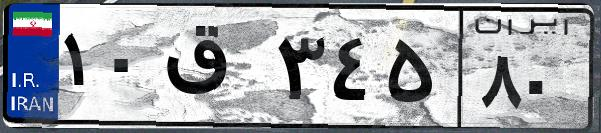0: (525, 38, 570, 115), (110, 28, 158, 98)
1: (57, 26, 110, 100)
3: (270, 28, 330, 110)
4: (330, 28, 385, 110)
5: (385, 28, 445, 110)
8: (475, 38, 525, 113)
ق: (158, 20, 270, 120)
